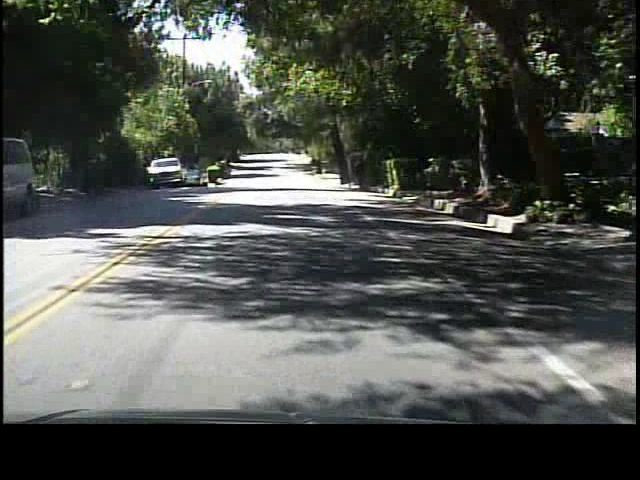person: (352, 154, 369, 191)
